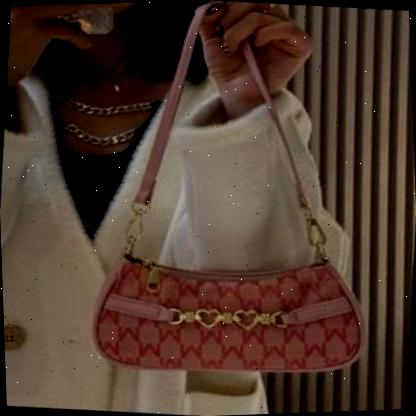bag: (83, 0, 374, 391)
